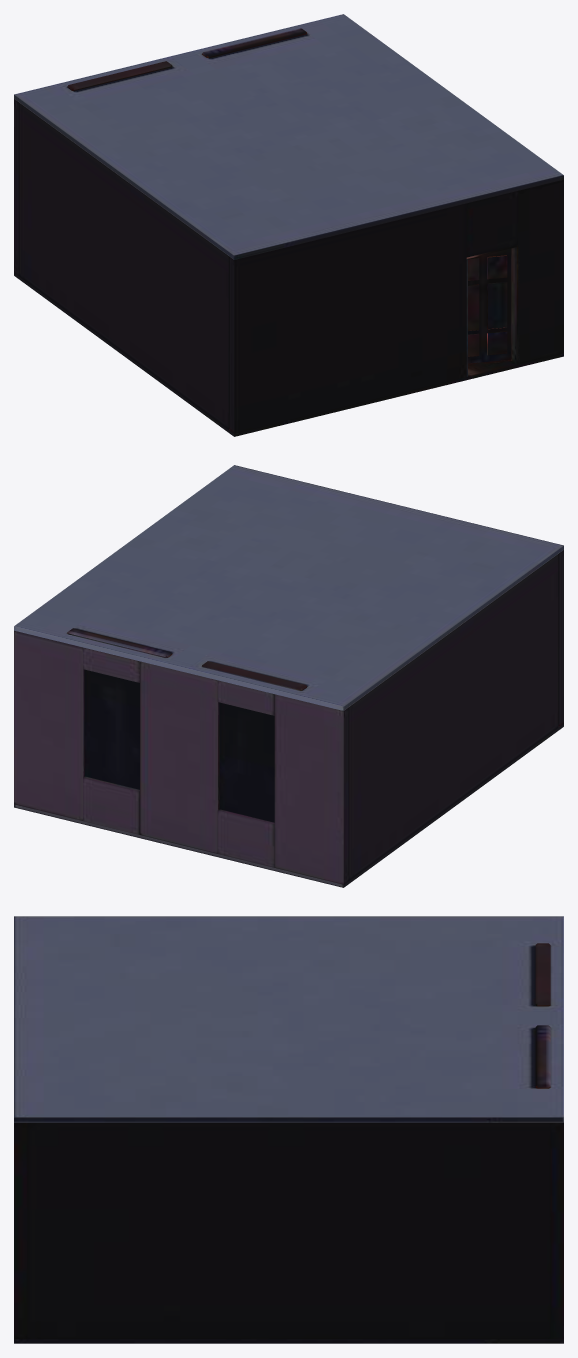
The model's file is room.gltf.
3 renders of one model, top to bottom at view 1: azimuth 30°, elevation 25°; view 2: azimuth 150°, elevation 25°; view 3: azimuth 270°, elevation 25°, orthographic. The views are drawn at different scales.
Parts seen in each view (by area): view 1: MESH_wallpaper, MESH_ceiling, MESH_mahogany, MESH_floorboards, MESH_whitepaint; view 2: MESH_wallpaper, MESH_ceiling, MESH_windowglass, MESH_floorboards, MESH_mahogany; view 3: MESH_wallpaper, MESH_ceiling, MESH_floorboards, MESH_mahogany.
Boxes of the visible parts, <box> form: MESH_wallpaper: <box>14,99,563,433</box>; MESH_ceiling: <box>14,14,563,259</box>; MESH_mahogany: <box>67,28,511,363</box>; MESH_floorboards: <box>14,272,563,436</box>; MESH_whitepaint: <box>466,245,519,376</box>; MESH_wallpaper: <box>14,550,563,884</box>; MESH_ceiling: <box>14,465,563,710</box>; MESH_windowglass: <box>84,669,274,822</box>; MESH_floorboards: <box>14,723,563,887</box>; MESH_mahogany: <box>67,628,306,690</box>; MESH_wallpaper: <box>14,1122,563,1339</box>; MESH_ceiling: <box>14,916,563,1122</box>; MESH_floorboards: <box>14,1339,563,1343</box>; MESH_mahogany: <box>535,943,550,1088</box>.
Size of what is drawn, in the model's own units: 6.36 by 3.38 by 7.36.
36 materials, 36 textured.
